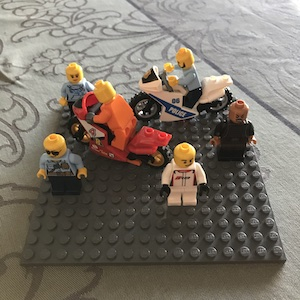Lego: (86, 73, 140, 152), (32, 130, 89, 200), (160, 141, 208, 214), (210, 97, 256, 163), (163, 43, 199, 113), (54, 61, 97, 118)
